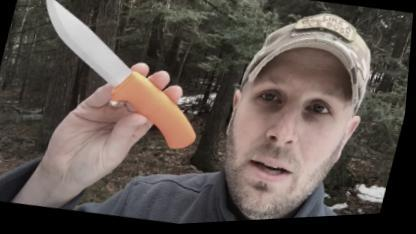knife: (14, 0, 176, 131)
